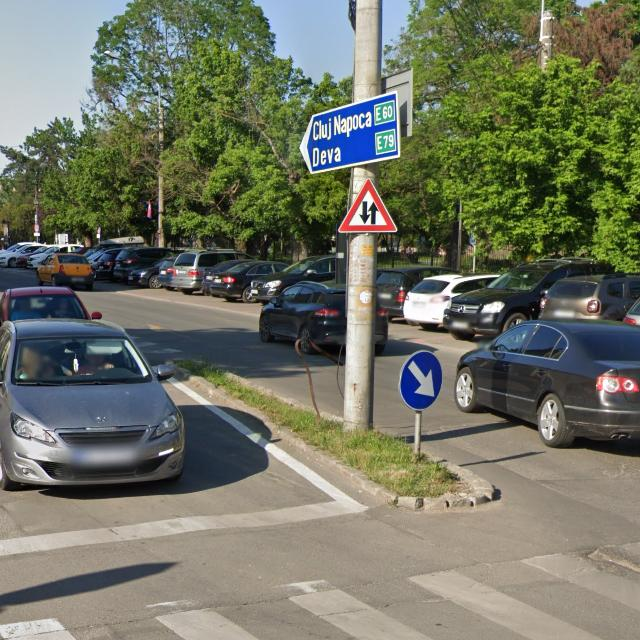mand_pass_right: (400, 350, 442, 409)
warn_two_way_traffic: (336, 175, 396, 233)
